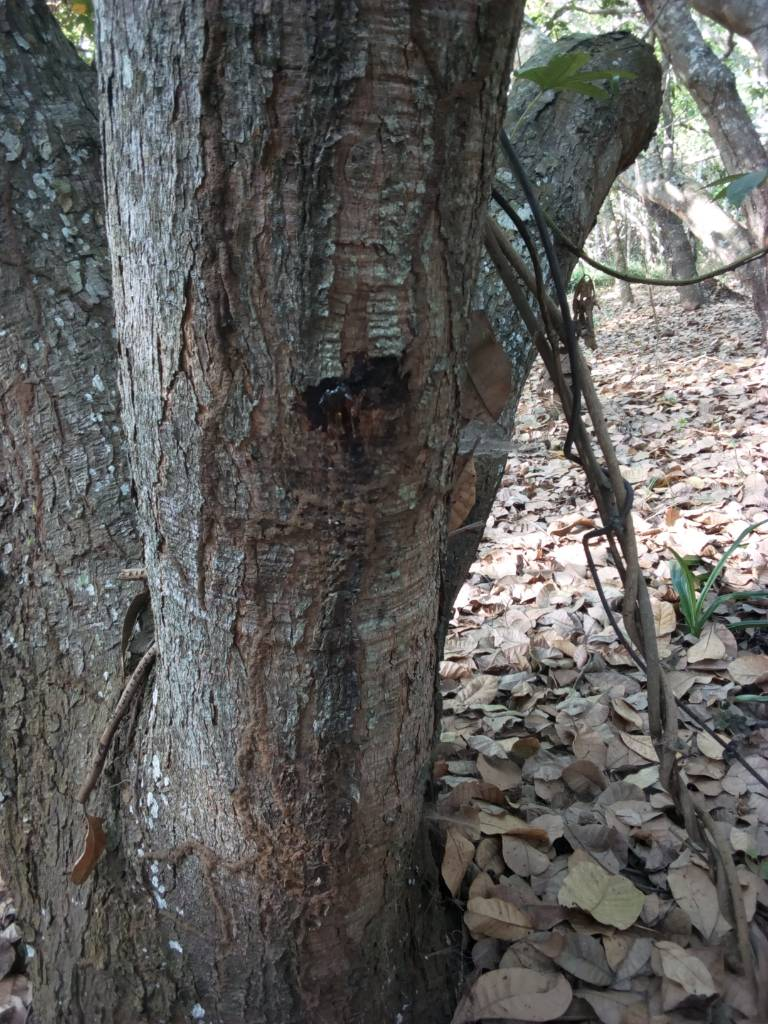Termites: (175, 28, 457, 957)
